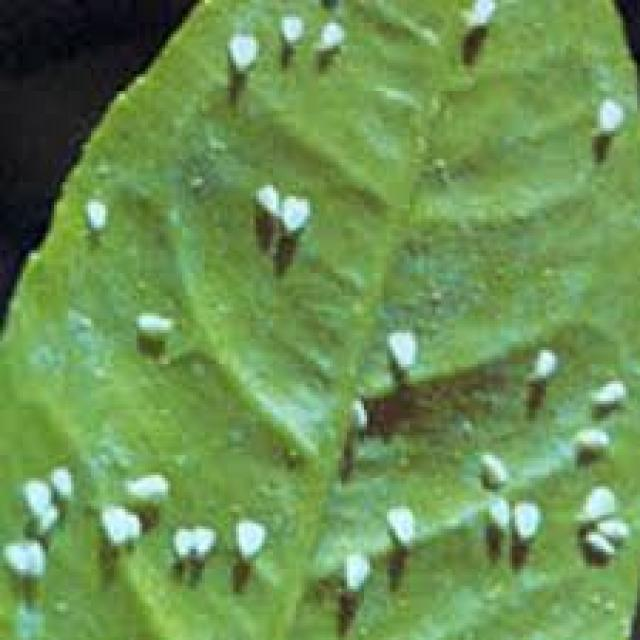Pestalotiopsis: (302, 277, 430, 452), (0, 427, 97, 632), (219, 168, 361, 276), (204, 0, 347, 97), (82, 433, 184, 564), (459, 422, 542, 558), (334, 496, 416, 616), (558, 378, 637, 500), (154, 498, 268, 578), (506, 345, 574, 445), (567, 477, 640, 565), (123, 300, 214, 368), (572, 90, 640, 166), (445, 0, 523, 52), (76, 183, 130, 247)
